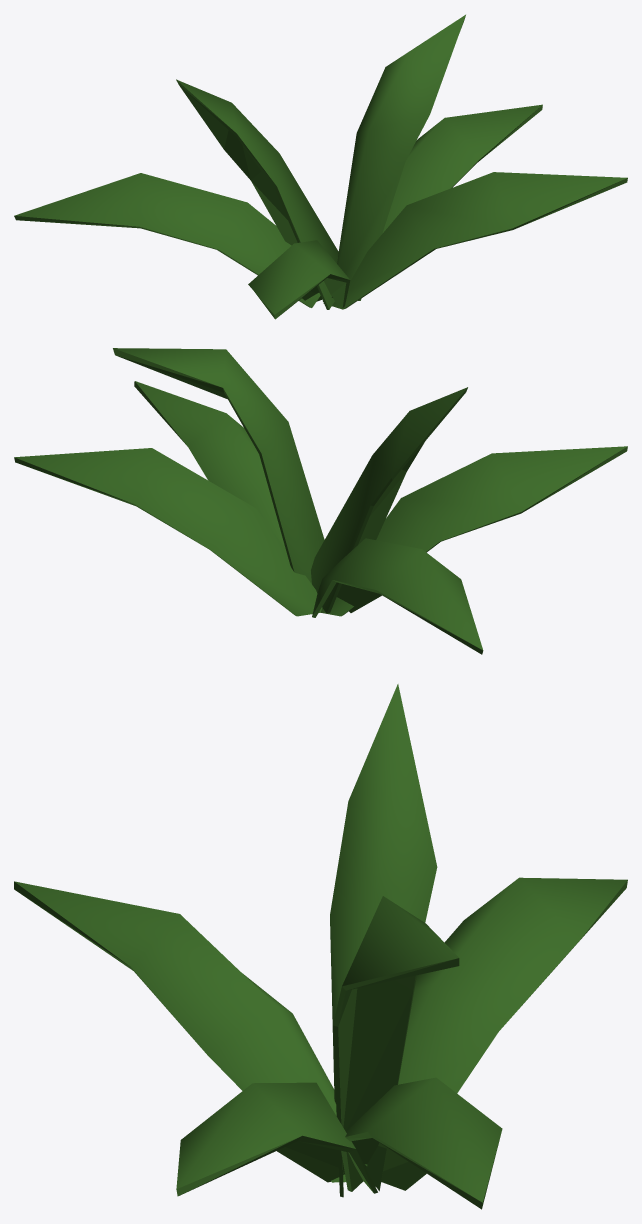
Rendered from Grass.FBX.
The picture shows the model from 3 angles, top to bottom: view 1: azimuth 30°, elevation 25°; view 2: azimuth 150°, elevation 25°; view 3: azimuth 270°, elevation 25°; orthographic projection. The views are drawn at different scales.
Visible parts, largest first — view 1: Box01; view 2: Box01; view 3: Box01.
Part boxes in pixels (x1,y1,x2,y2): Box01: (14, 14, 627, 319); Box01: (14, 348, 627, 654); Box01: (14, 684, 627, 1209).
Size of the model in its own units: 18.88 by 9.31 by 13.38.
